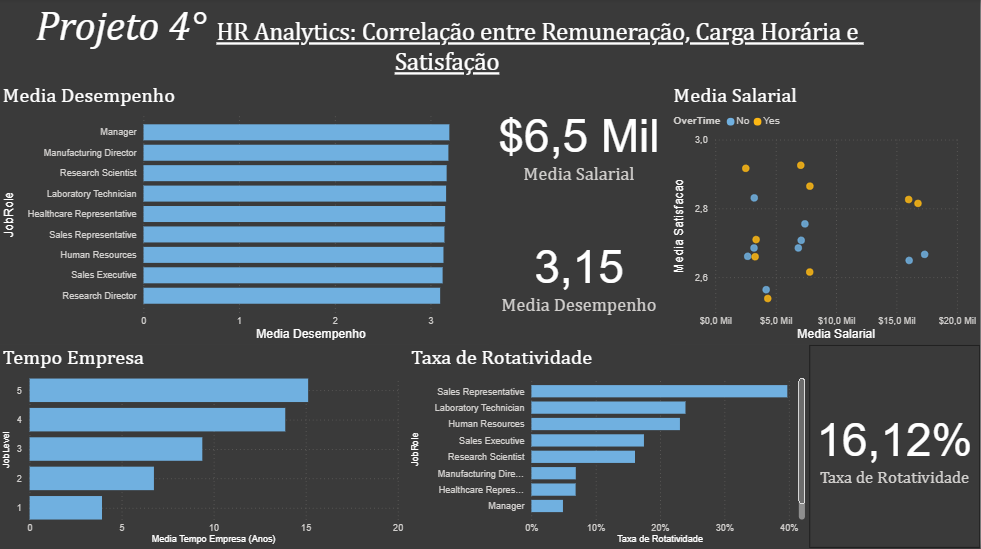

Layout of this report page (visuals, bound fields, positions):
{"tool":"powerbi","page":{"name":"Página 1","canvas":[1280,720],"ordinal":0},"visuals":[{"type":"card","fields":{"Values":["Performance.Taxa de Rotatividade"]},"box":[1057.3,452.9,223,265.6],"z":0},{"type":"card","fields":{"Values":["Performance.Media Desempenho"]},"box":[640.1,269,234.9,183.9],"z":1000},{"type":"clusteredBarChart","title":"Media Desempenho","fields":{"Category":["Funcionários.JobRole"],"Y":["Performance.Media Desempenho"]},"box":[0,110.7,640.1,342.2],"z":2000},{"type":"card","fields":{"Values":["Performance.Media Salarial"]},"box":[640.1,110.7,234.9,158.3],"z":3000},{"type":"scatterChart","title":"Media Salarial","fields":{"X":["Performance.Media Salarial"],"Y":["Comportamento.Media Satisfacao"],"Series":["Funcionários.OverTime"],"Category":["Funcionários.JobRole"]},"box":[875.1,110.7,405.2,342.2],"z":4000},{"type":"clusteredBarChart","title":"Taxa de Rotatividade ","fields":{"Category":["Funcionários.JobRole"],"Y":["Performance.Taxa de Rotatividade"]},"box":[532.9,452.9,524.4,265.6],"z":5000},{"type":"clusteredBarChart","title":"Tempo Empresa ","fields":{"Category":["Funcionários.JobLevel"],"Y":["Performance.Media Tempo Empresa (Anos)"]},"box":[0,452.9,532.9,265.6],"z":6000},{"type":"textbox","box":[0,0,1279.9,110.3],"z":6001}]}

Visuals, with their boxes in screenshot pixels (x1, y1, x2, y2), scaled from the page's 1280x720 canvas onto the 981x549 screenshot:
card - Performance.Taxa de Rotatividade: 810, 345, 980, 548
card - Performance.Media Desempenho: 491, 205, 671, 345
"Media Desempenho" clusteredBarChart: 0, 84, 491, 345
card - Performance.Media Salarial: 491, 84, 671, 205
"Media Salarial" scatterChart: 671, 84, 980, 345
"Taxa de Rotatividade " clusteredBarChart: 408, 345, 810, 548
"Tempo Empresa " clusteredBarChart: 0, 345, 408, 548
textbox: 0, 0, 980, 84
